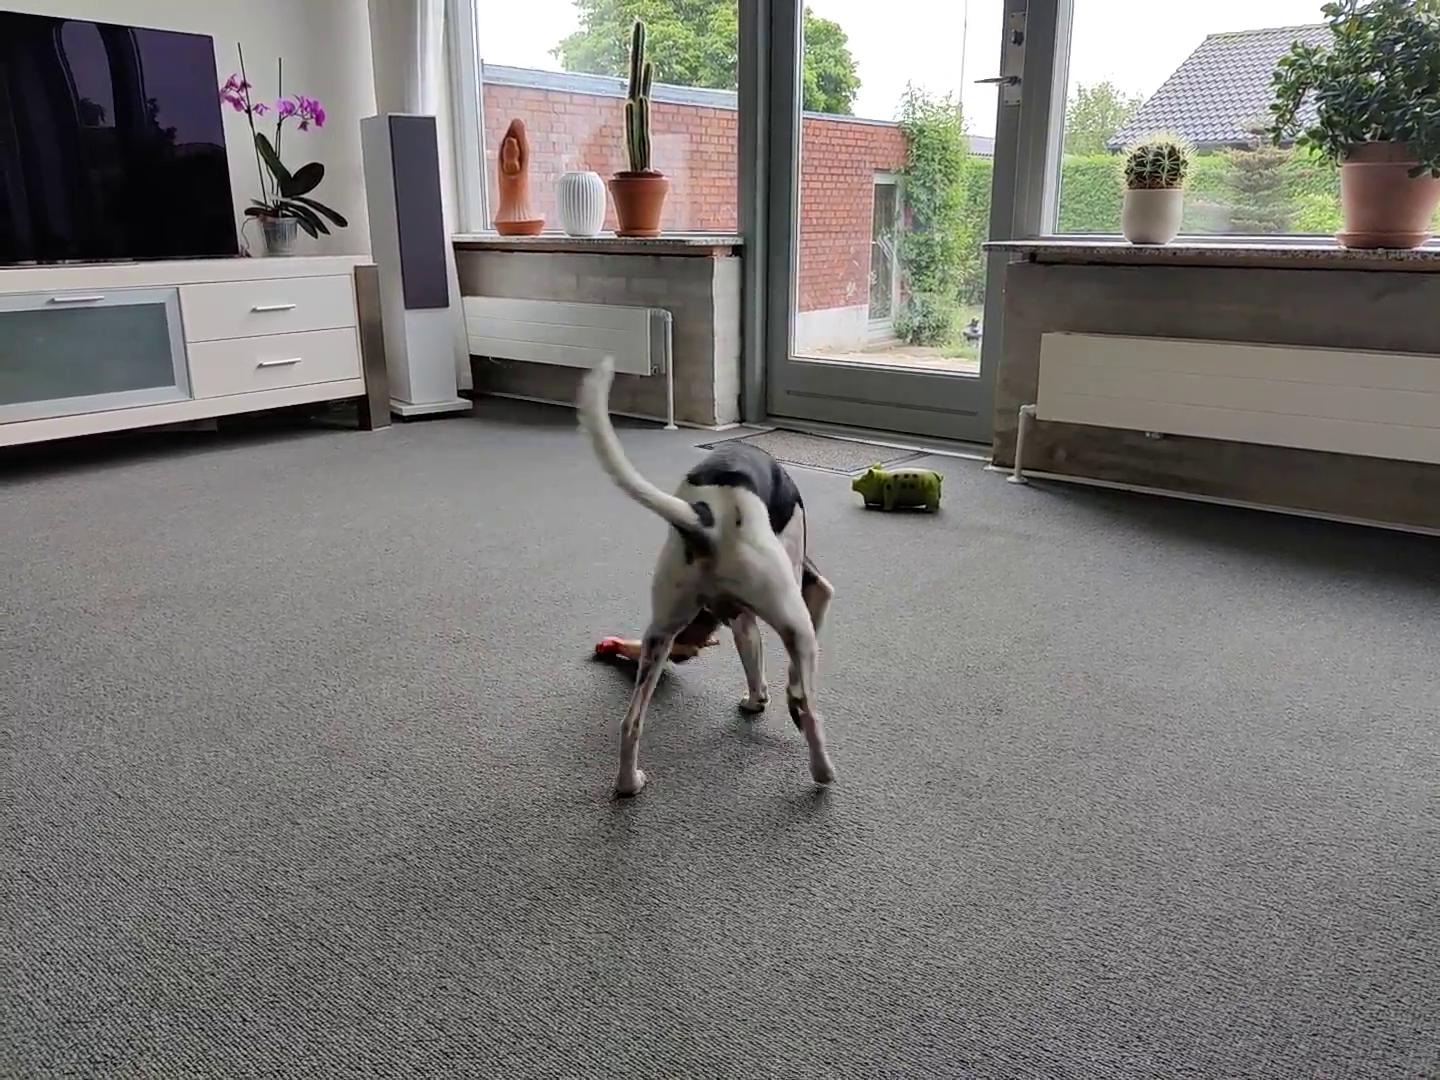Dog: (571, 358, 839, 802)
